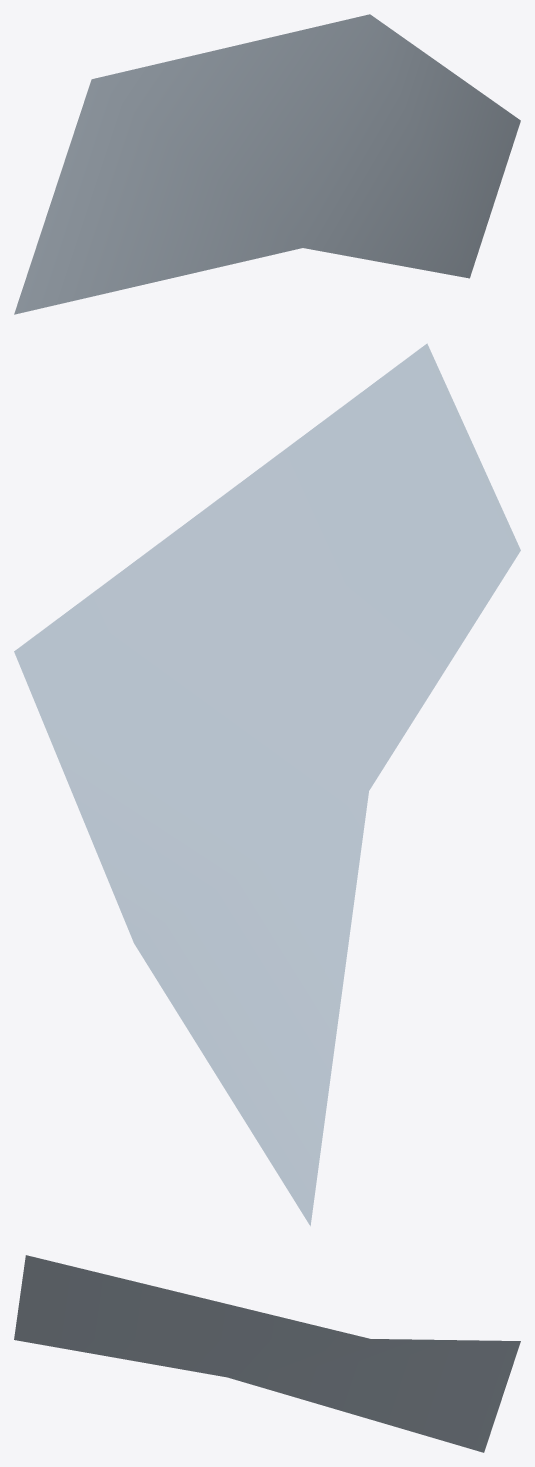
The model's file is articular-disc-of-acromioclavicular-joint-l.glb.
The picture shows the model from 3 angles, top to bottom: view 1: azimuth 30°, elevation 25°; view 2: azimuth 150°, elevation 25°; view 3: azimuth 270°, elevation 25°; orthographic projection. The views are drawn at different scales.
Visible parts, largest first — view 1: Articular disc of acromioclavicular joint.l; view 2: Articular disc of acromioclavicular joint.l; view 3: Articular disc of acromioclavicular joint.l.
Part boxes in pixels (x1,y1,x2,y2): Articular disc of acromioclavicular joint.l: (14, 14, 520, 314); Articular disc of acromioclavicular joint.l: (14, 343, 520, 1226); Articular disc of acromioclavicular joint.l: (14, 1255, 520, 1452).
Size of the model in its own units: 0.0153 by 0.0185 by 0.0305.
